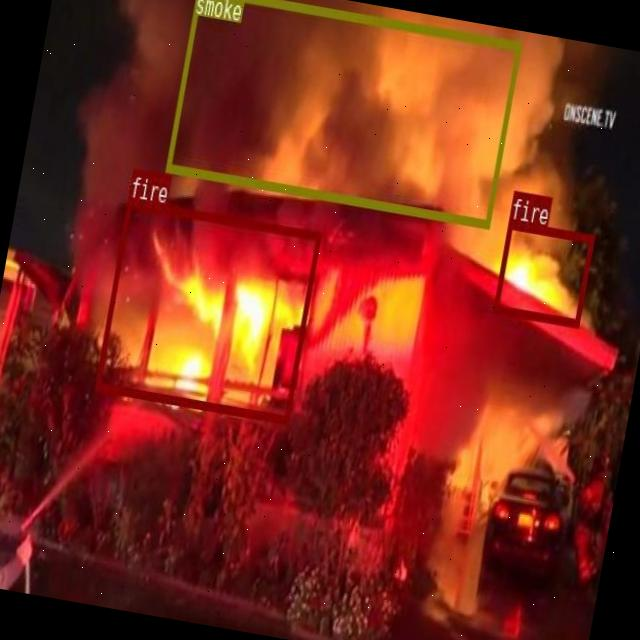fire: (94, 196, 320, 422), (491, 218, 593, 326)
smoke: (164, 0, 521, 227)
